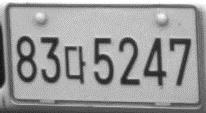2: (117, 36, 141, 85)
3: (39, 36, 60, 83)
4: (143, 36, 167, 86)
5: (93, 36, 114, 84)
7: (168, 37, 191, 86)
8: (15, 34, 37, 82)
다: (64, 44, 86, 85)
